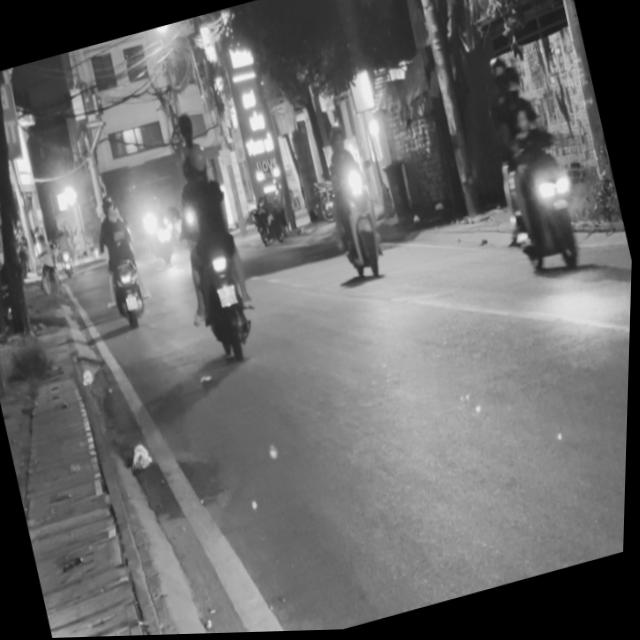helmet: (483, 55, 515, 105), (179, 139, 213, 185), (494, 56, 525, 105), (325, 121, 349, 153)
licenseplate: (462, 40, 601, 292), (154, 132, 274, 369), (307, 114, 398, 289)
nohelmet: (217, 282, 240, 307)
